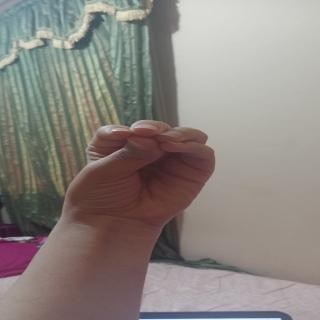HA: (50, 117, 250, 223)
